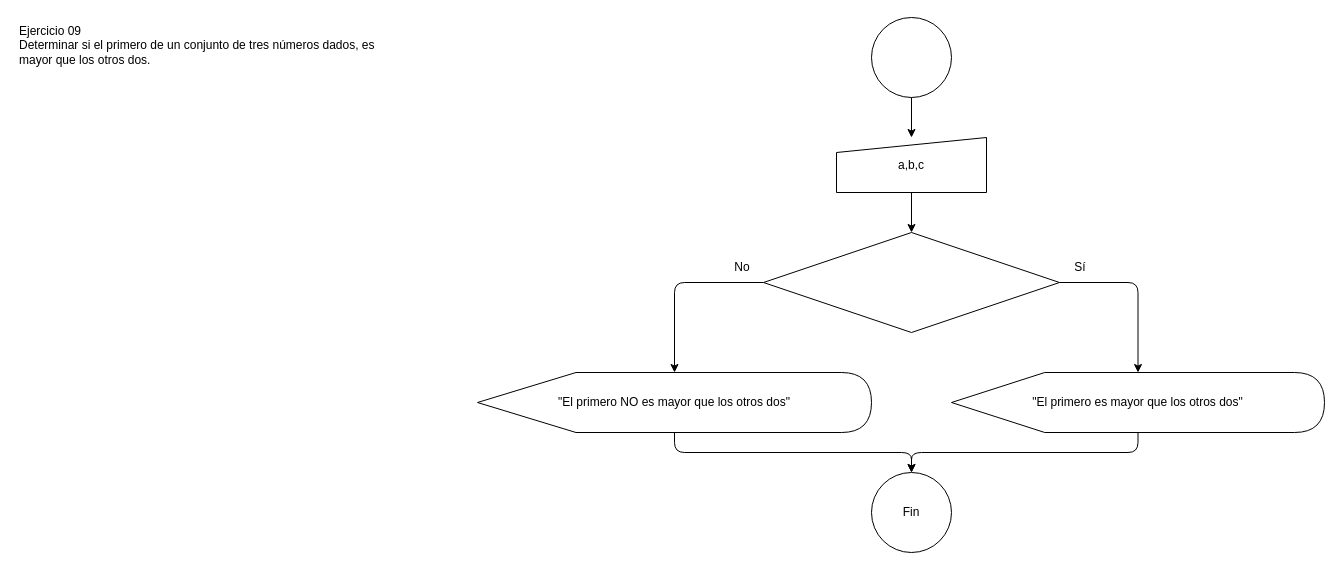
The diagram is 1342 pixels wide and 570 high, and some of its shapes have lost their labels. Each missing label, with the centre of its shape:
"(a > b) and (a > c)" belongs at [911,282].
"Inicio" belongs at [911,57].
